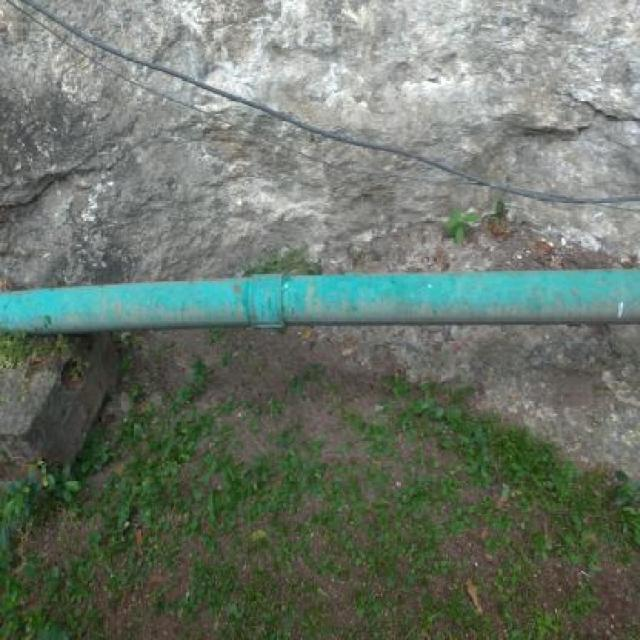gas: (6, 271, 640, 335)
